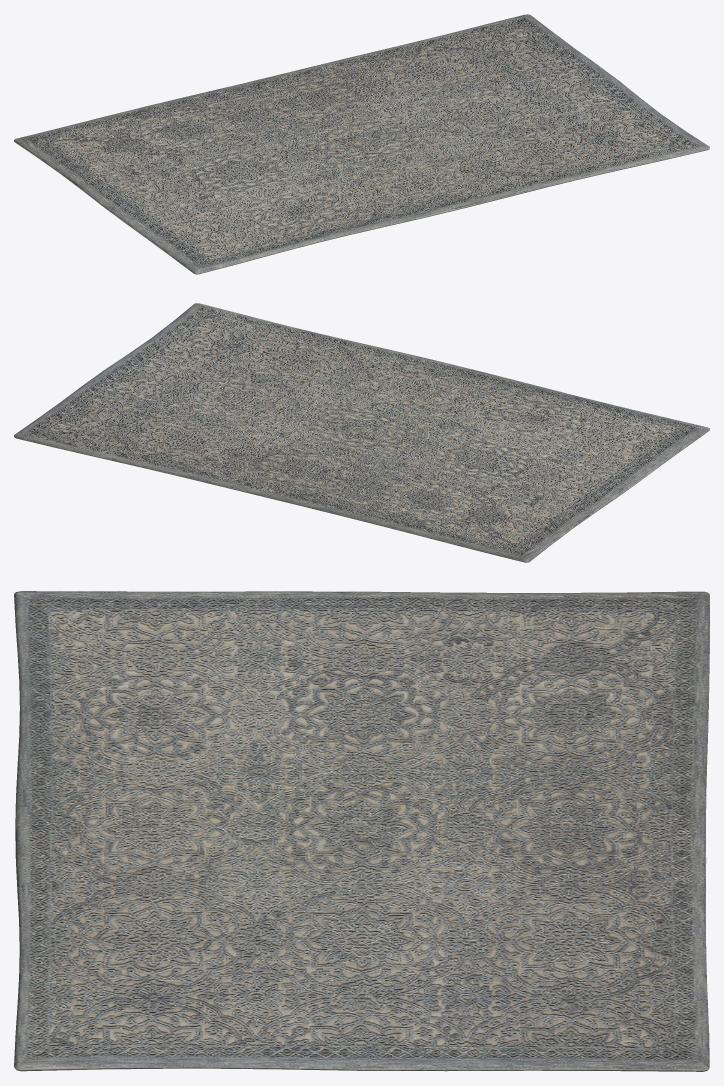
The model's file is abo_B07B4WR39P.glb.
3 renders of one model, top to bottom at view 1: azimuth 30°, elevation 25°; view 2: azimuth 150°, elevation 25°; view 3: azimuth 270°, elevation 25°, orthographic. The views are drawn at different scales.
Visible parts, largest first — view 1: RootNode; view 2: RootNode; view 3: RootNode.
Part boxes in pixels (x1=…): RootNode: x1=14, y1=14, x2=709, y2=274; RootNode: x1=14, y1=303, x2=709, y2=562; RootNode: x1=14, y1=591, x2=709, y2=1071.
Size of the model in its own units: 2.5 by 0.0217 by 1.54.
1 material, 1 textured.
